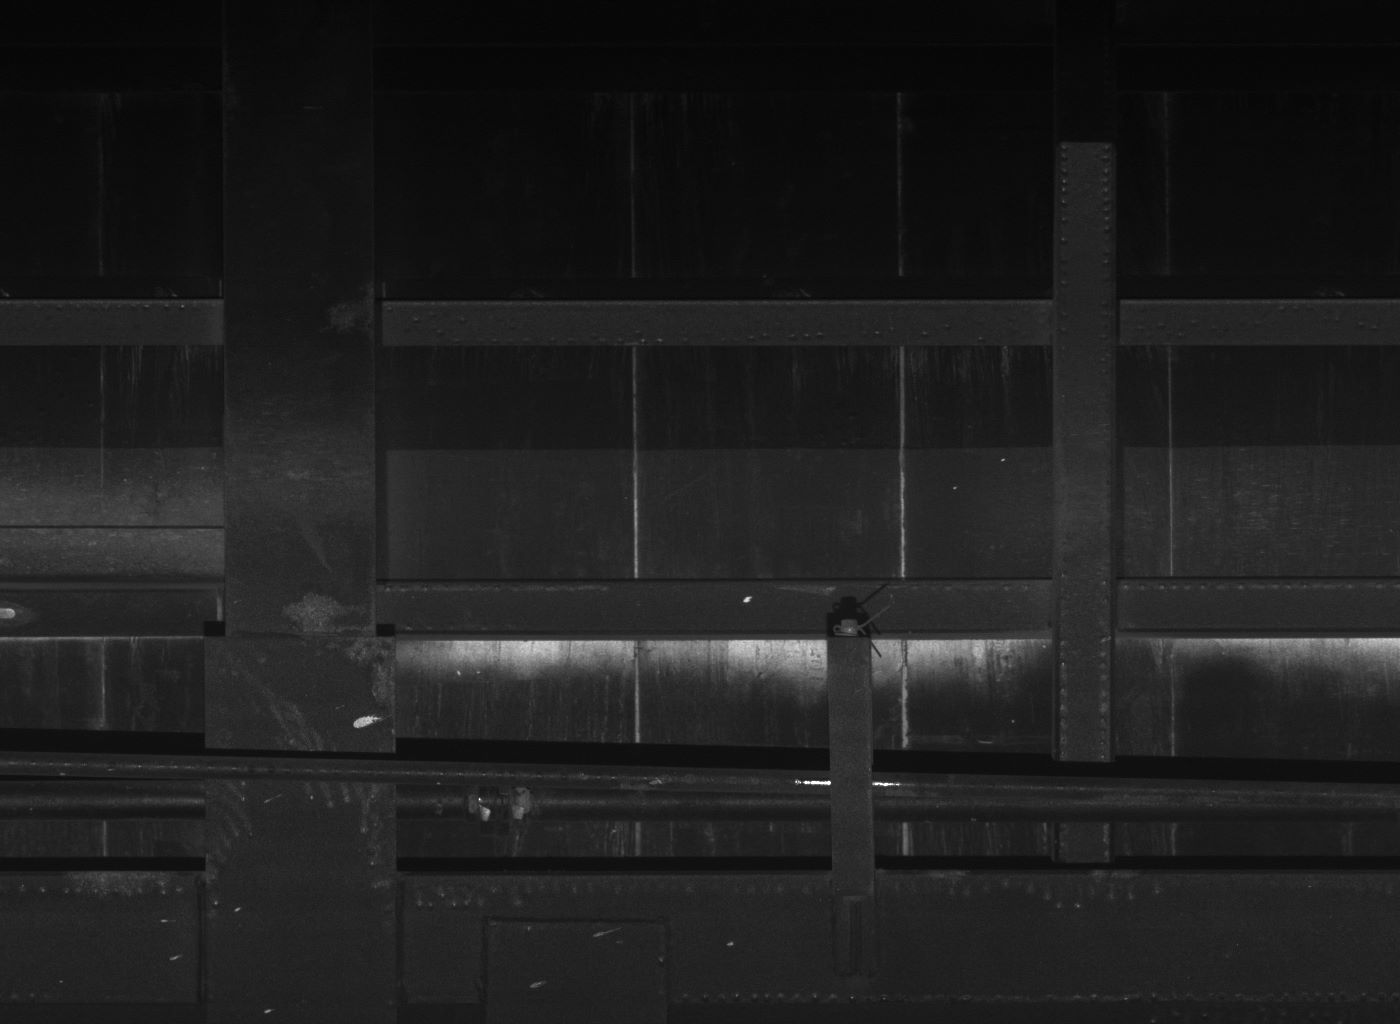normal: (828, 614, 874, 903)
